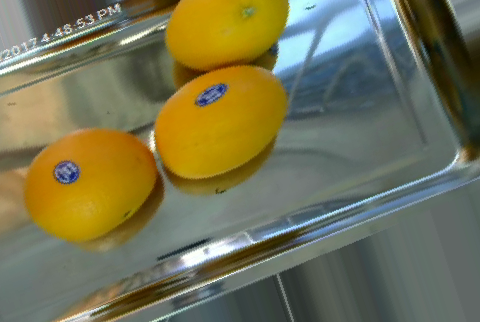Orange: (153, 63, 288, 178), (22, 127, 157, 241)
